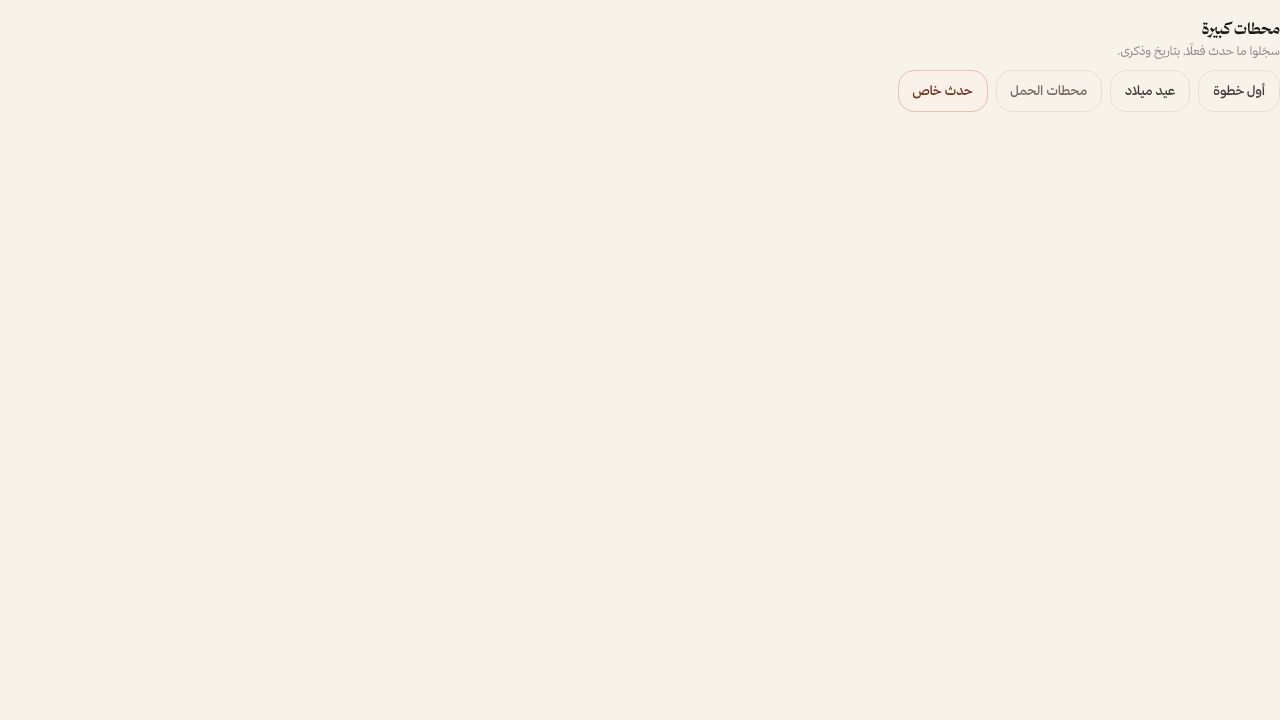
Test case: تسجيل محطة كبيرة › يبقي التاريخ والذكرى داخل النافذة عند فشل الحفظ
Click the button "أول خطوة" at (1239, 91), box x1=1198 y1=70 x2=1279 y2=112
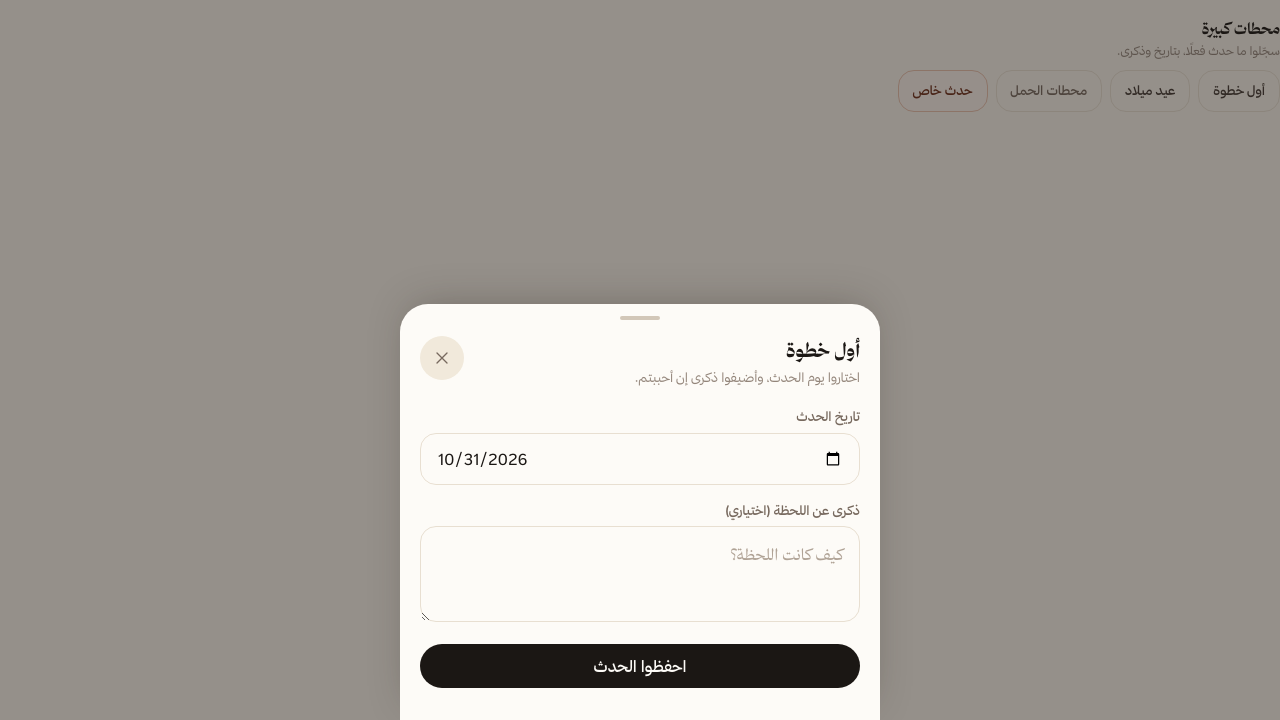
Type "2026-08-14" into the date field labelled "تاريخ الحدث" at (640, 458), box x1=420 y1=432 x2=860 y2=484
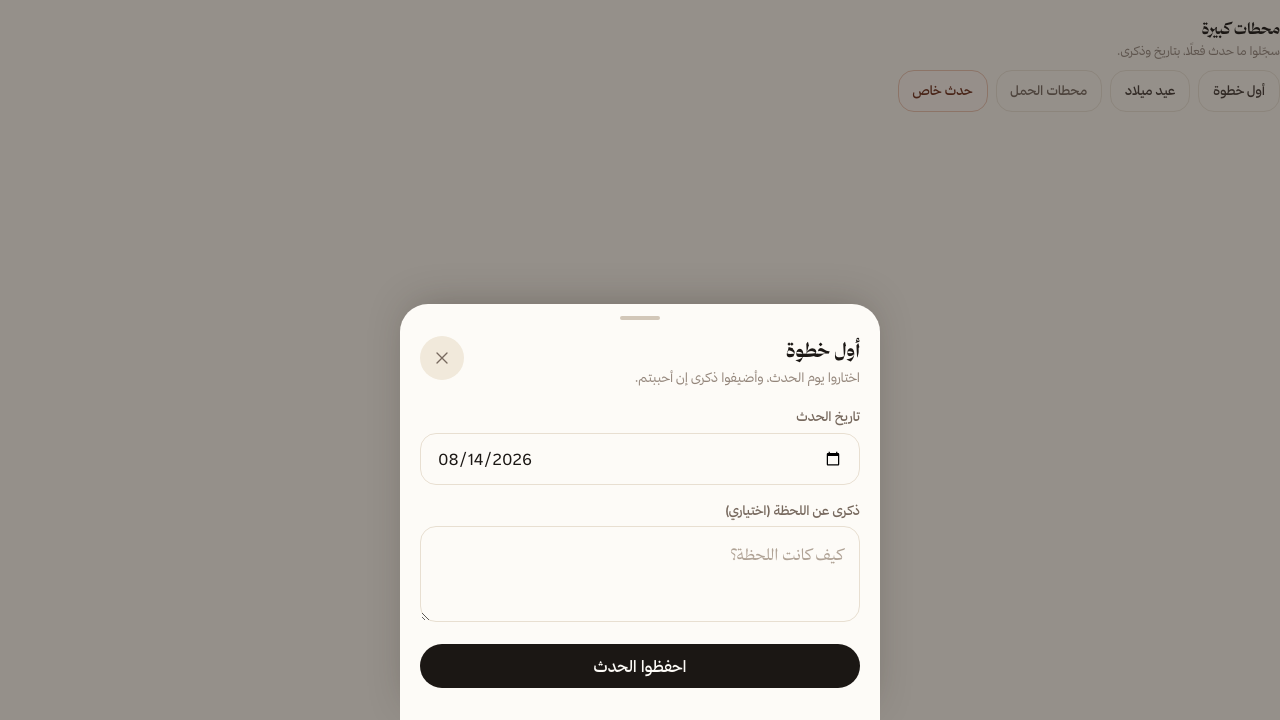
Type "خطوته الأولى في البيت" into the text box labelled "ذكرى عن اللحظة (اختياري)" at (640, 574), box x1=420 y1=526 x2=860 y2=622
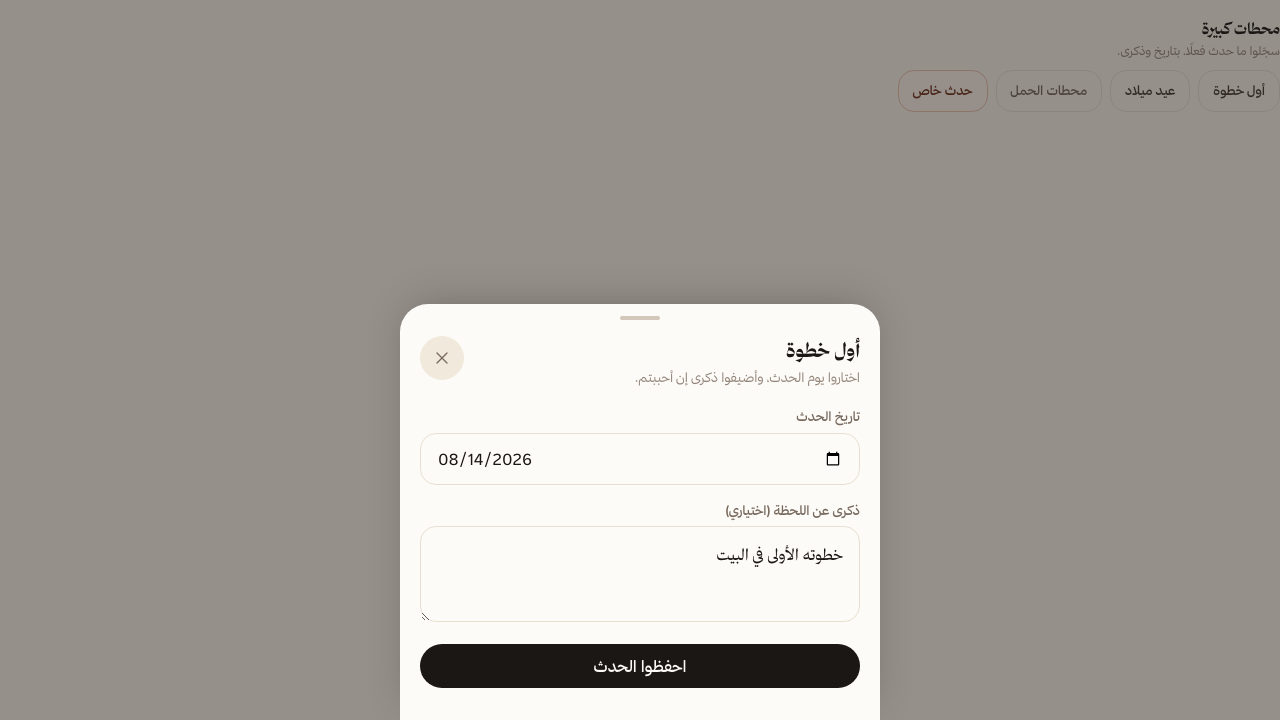
Click the button "احفظوا الحدث" at (640, 666), box x1=420 y1=644 x2=860 y2=688
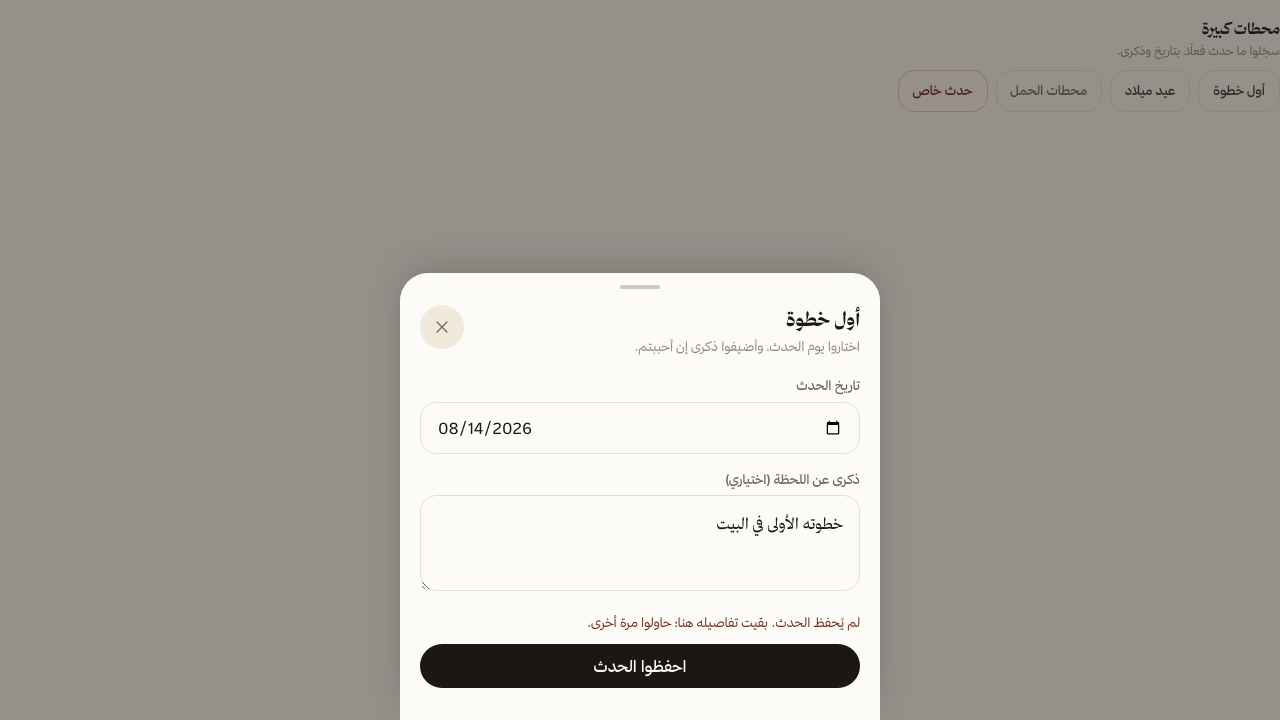
Check: the dialog is shown, box x1=400 y1=272 x2=880 y2=719
Check: the message shows "لم يُحفظ الحدث", box x1=587 y1=614 x2=860 y2=630
